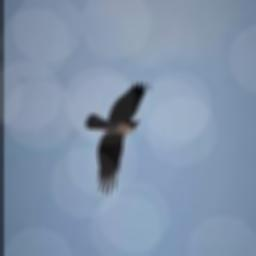Crow: (85, 83, 146, 196)
